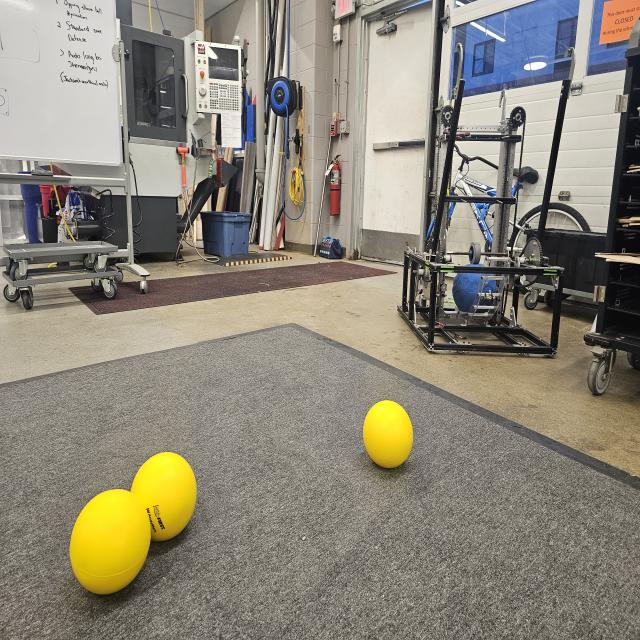Fuel: (70, 491, 151, 594), (131, 452, 198, 542), (364, 400, 414, 470)
